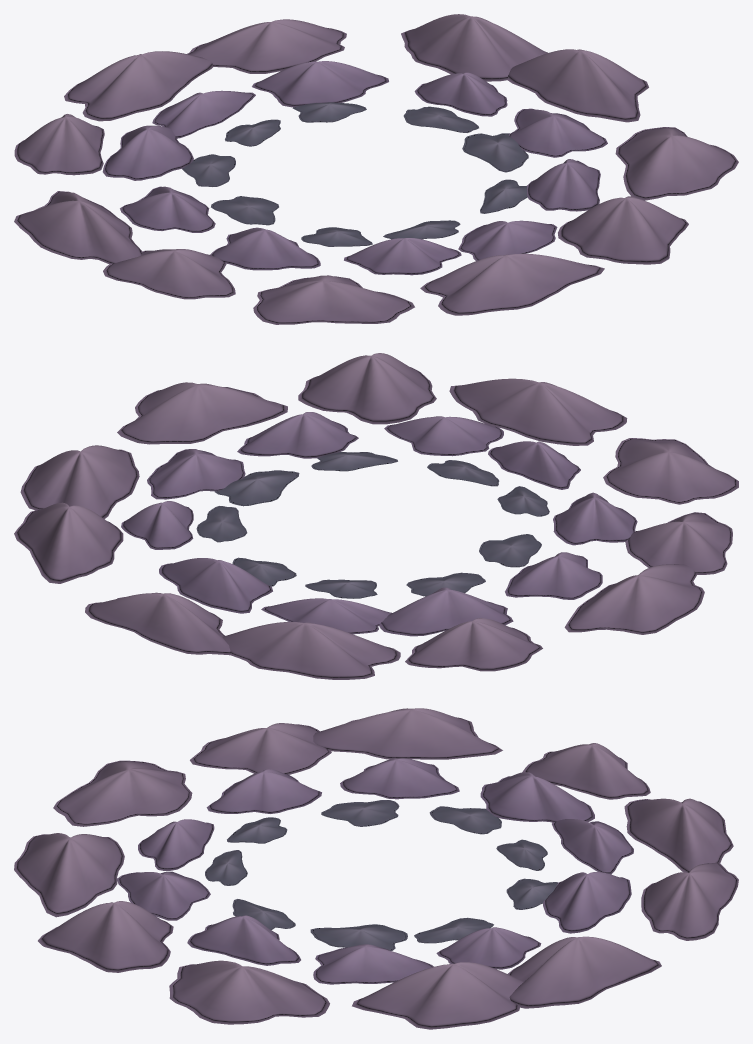
The model's file is distant_terrain_quality.glb.
The picture shows the model from 3 angles, top to bottom: view 1: azimuth 30°, elevation 25°; view 2: azimuth 150°, elevation 25°; view 3: azimuth 270°, elevation 25°; orthographic projection. The views are drawn at different scales.
Visible parts, largest first — view 1: Far_ridges_01, Far_ridges_04, Far_ridges_03, Far_ridges_07, Far_ridges_02, Far_ridges_05, Far_ridges_11, Far_ridges_09, Far_ridges_06, Far_ridges_10, Far_ridges_08, Middle_hills_05 (+18 smaller); view 2: Far_ridges_01, Far_ridges_07, Far_ridges_03, Far_ridges_02, Far_ridges_09, Far_ridges_11, Far_ridges_05, Far_ridges_04, Far_ridges_06, Far_ridges_08, Far_ridges_10, Middle_hills_05 (+18 smaller); view 3: Far_ridges_04, Far_ridges_03, Far_ridges_05, Far_ridges_09, Far_ridges_01, Far_ridges_02, Far_ridges_11, Far_ridges_07, Far_ridges_06, Far_ridges_10, Far_ridges_08, Middle_hills_07 (+18 smaller).
Part boxes in pixels (left/top/right/bottom): Far_ridges_01: left=420, top=253, right=604, bottom=315; Far_ridges_04: left=507, top=49, right=648, bottom=122; Far_ridges_03: left=615, top=127, right=738, bottom=200; Far_ridges_07: left=64, top=51, right=213, bottom=121; Far_ridges_02: left=558, top=196, right=688, bottom=264; Far_ridges_05: left=401, top=14, right=547, bottom=81; Far_ridges_11: left=253, top=275, right=414, bottom=324; Far_ridges_09: left=14, top=191, right=142, bottom=264; Far_ridges_06: left=187, top=19, right=346, bottom=73; Far_ridges_10: left=103, top=249, right=235, bottom=299; Far_ridges_08: left=14, top=114, right=104, bottom=175; Middle_hills_05: left=252, top=61, right=388, bottom=107; Far_ridges_01: left=449, top=378, right=627, bottom=445; Far_ridges_07: left=222, top=622, right=400, bottom=679; Far_ridges_03: left=117, top=382, right=287, bottom=444; Far_ridges_02: left=298, top=353, right=436, bottom=424; Far_ridges_09: left=564, top=564, right=704, bottom=634; Far_ridges_11: left=603, top=438, right=738, bottom=504; Far_ridges_05: left=14, top=502, right=123, bottom=583; Far_ridges_04: left=20, top=445, right=139, bottom=518; Far_ridges_06: left=85, top=592, right=230, bottom=655; Far_ridges_08: left=405, top=618, right=542, bottom=671; Far_ridges_10: left=625, top=512, right=732, bottom=574; Middle_hills_05: left=159, top=558, right=272, bottom=613; Far_ridges_04: left=352, top=962, right=523, bottom=1029; Far_ridges_03: left=169, top=960, right=329, bottom=1024; Far_ridges_05: left=508, top=936, right=661, bottom=1008; Far_ridges_09: left=313, top=708, right=502, bottom=759; Far_ridges_01: left=14, top=833, right=124, bottom=917; Far_ridges_02: left=38, top=901, right=173, bottom=972; Far_ridges_11: left=53, top=760, right=192, bottom=826; Far_ridges_07: left=624, top=798, right=733, bottom=872; Far_ridges_06: left=641, top=862, right=738, bottom=940; Far_ridges_10: left=190, top=723, right=331, bottom=774; Far_ridges_08: left=522, top=743, right=650, bottom=799; Middle_hills_07: left=480, top=772, right=594, bottom=822.
Bounding box in the file's own units: 470 × 27.92 × 458.
